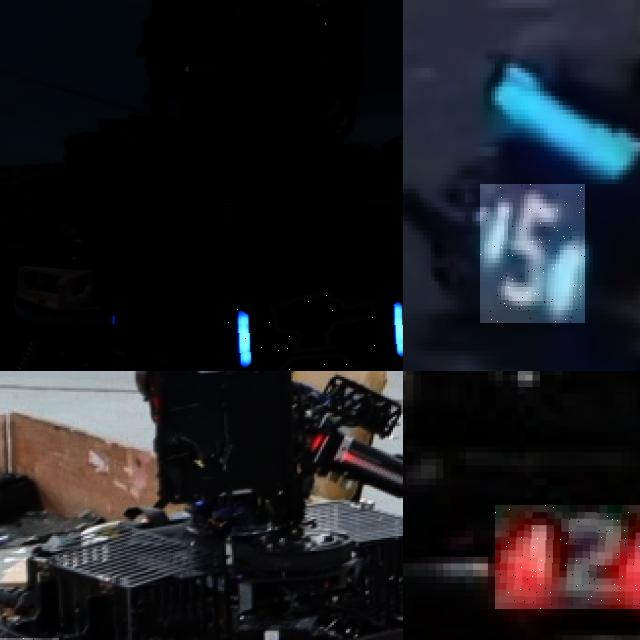B5: (480, 184, 585, 323)
Bs: (227, 285, 403, 371)
R2: (495, 504, 640, 609)
